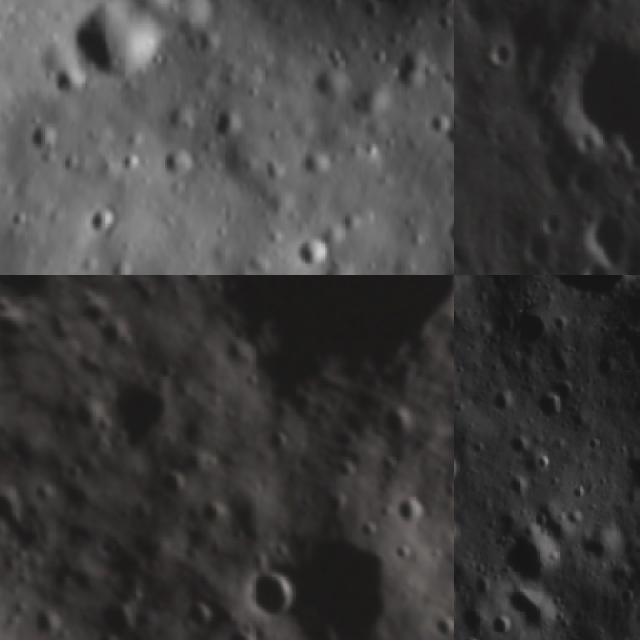crater: (149, 275, 454, 457), (245, 489, 446, 640), (45, 0, 184, 105), (558, 28, 640, 157), (92, 362, 190, 460), (454, 275, 640, 310), (0, 440, 59, 549), (233, 552, 309, 627), (82, 582, 151, 640), (504, 526, 560, 592), (11, 103, 72, 162), (149, 130, 210, 189), (296, 48, 357, 107), (580, 208, 633, 274), (165, 581, 224, 640), (382, 483, 437, 539), (285, 220, 340, 274), (197, 91, 253, 144), (369, 392, 423, 446), (70, 196, 124, 248), (512, 582, 556, 640), (190, 490, 238, 540), (21, 595, 74, 640), (149, 459, 195, 506), (426, 45, 454, 114), (478, 28, 518, 73), (210, 613, 274, 640), (536, 382, 564, 433), (535, 202, 566, 244), (419, 606, 454, 640), (454, 451, 465, 488), (454, 109, 464, 143)
